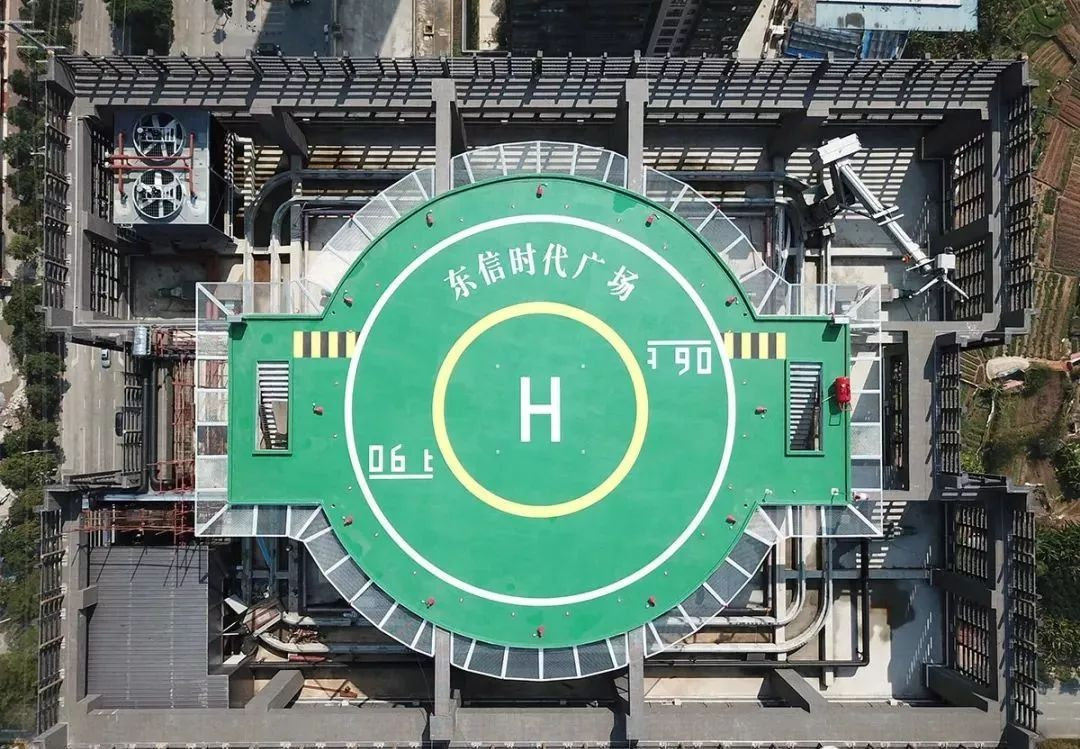H: (519, 376, 562, 444)
